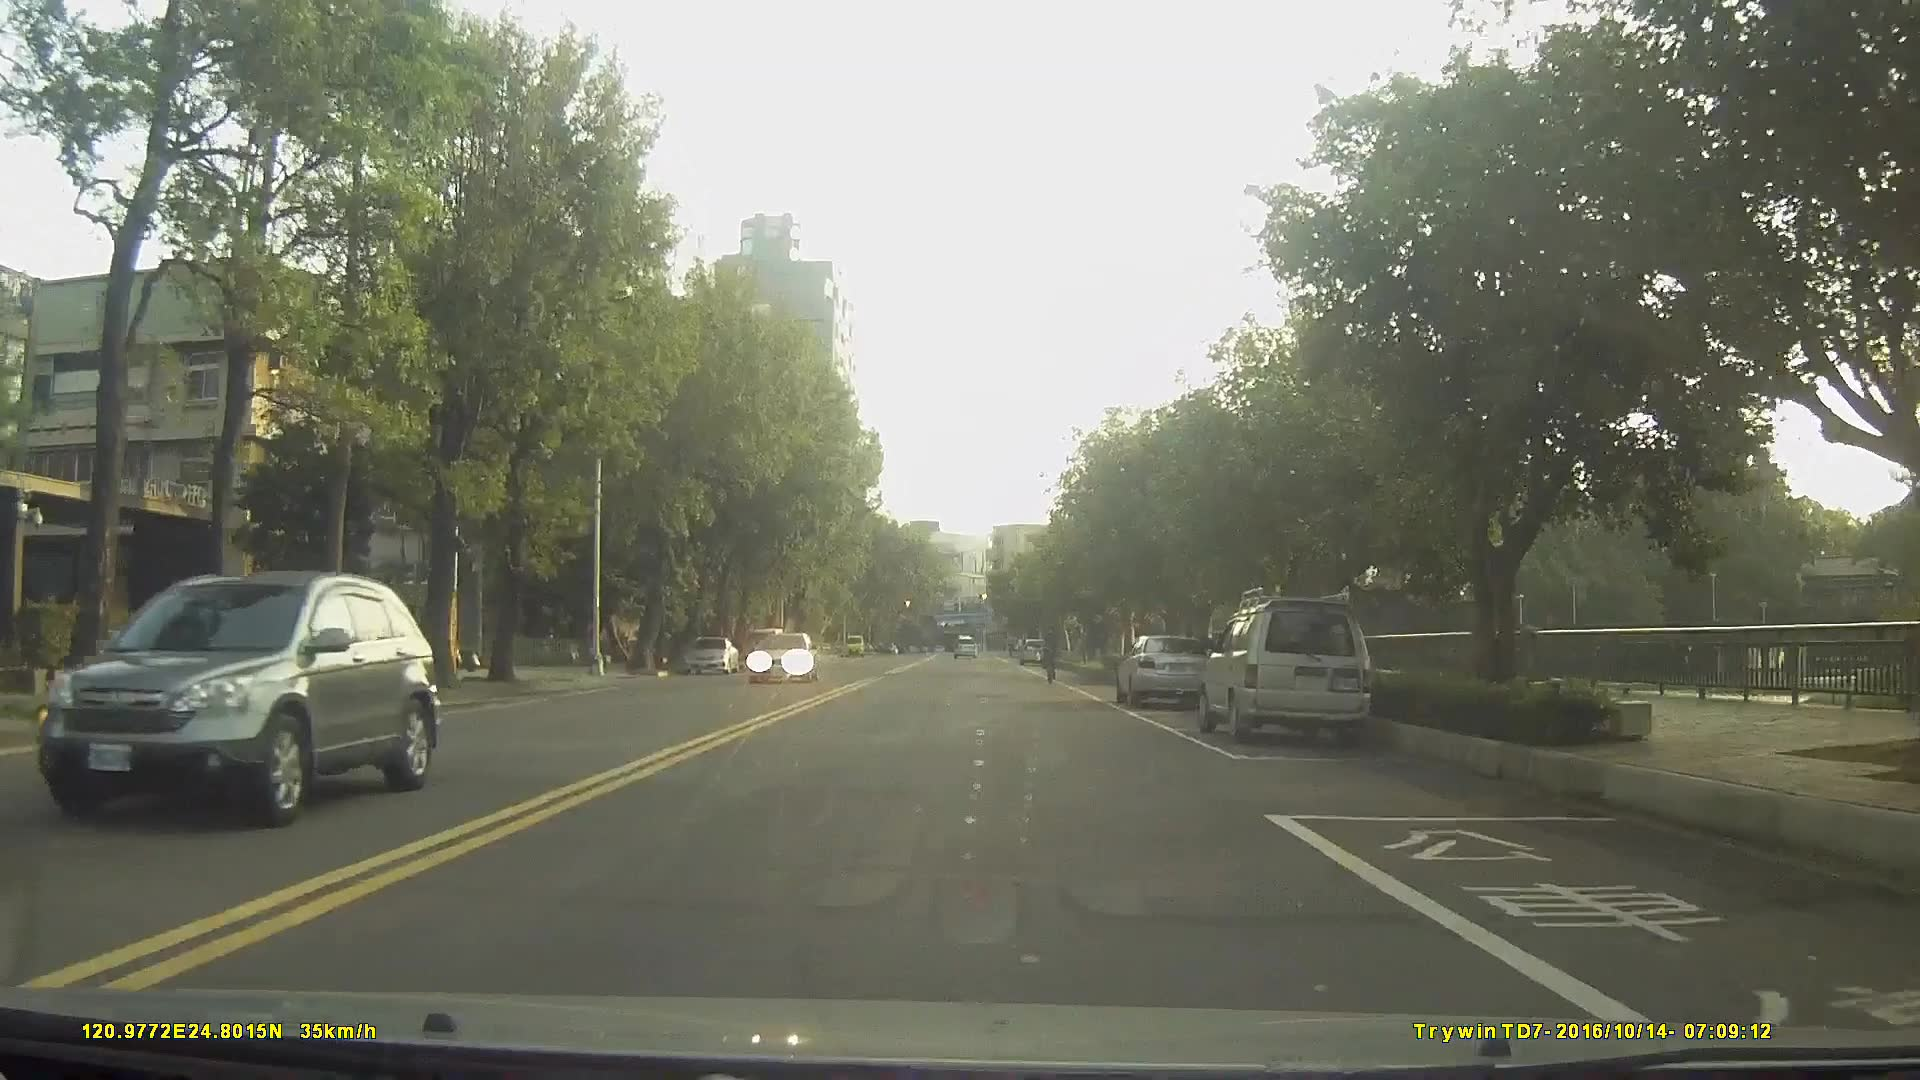rider: (1040, 627, 1061, 690)
vehicle: (33, 568, 438, 830), (1196, 598, 1373, 744), (1110, 632, 1214, 710), (746, 628, 817, 684), (682, 633, 739, 675), (741, 630, 784, 672), (1018, 637, 1048, 668), (948, 634, 976, 660)
